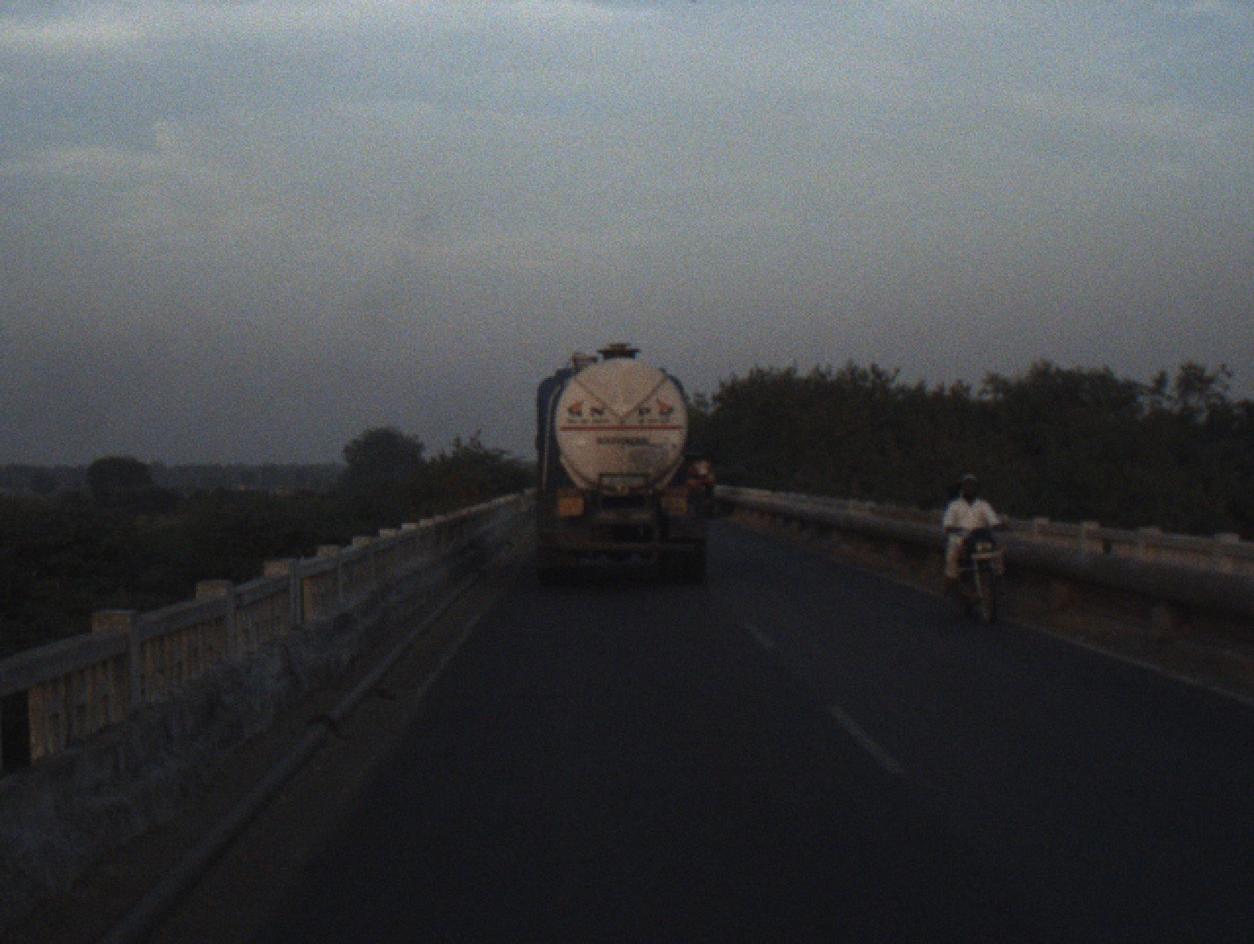motorcycle: (944, 522, 1011, 631)
rider: (940, 472, 1011, 611)
truck: (522, 340, 717, 593)
vehicle fallback: (682, 447, 721, 522)
